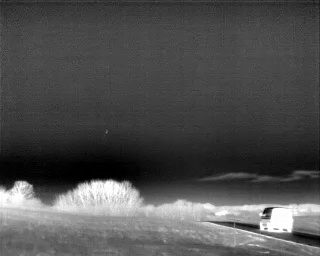BIRD: (103, 127, 110, 137)
